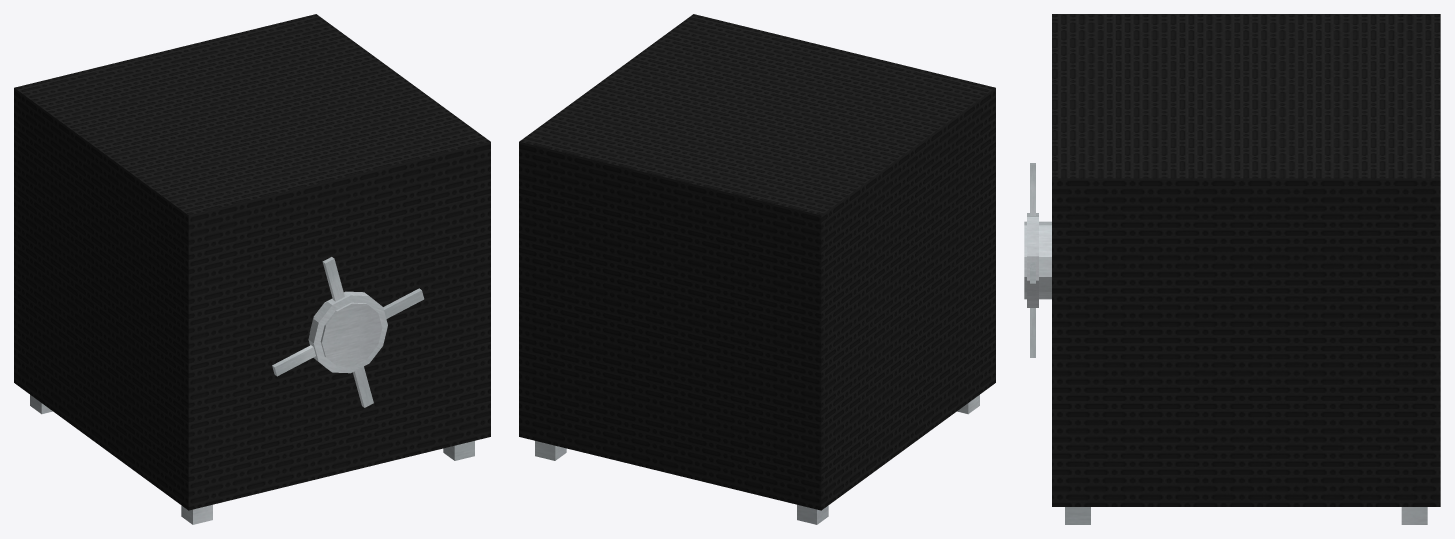
The model's file is Cassaforte.fbx.
3 views of the same model, side by side, from view 1: azimuth 30°, elevation 25°; view 2: azimuth 150°, elevation 25°; view 3: azimuth 270°, elevation 25° (orthographic). The views are drawn at different scales.
Visible parts, largest first — view 1: cassaforte_mesh; view 2: cassaforte_mesh; view 3: cassaforte_mesh.
Part boxes in pixels (x1=…): cassaforte_mesh: x1=14, y1=14, x2=490, y2=524; cassaforte_mesh: x1=519, y1=14, x2=995, y2=524; cassaforte_mesh: x1=1024, y1=14, x2=1440, y2=524.
Size of the model in its own units: 3 by 3 by 3.21.
1 material, 1 textured.
